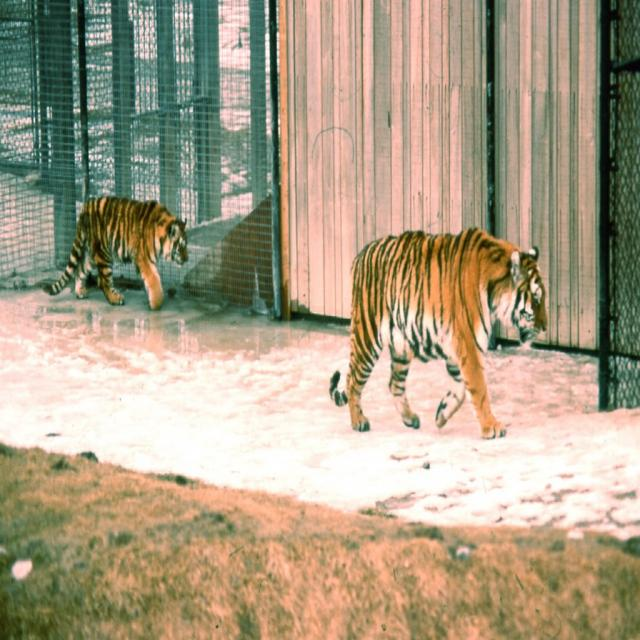Tiger: (331, 230, 550, 437), (40, 197, 189, 309)
